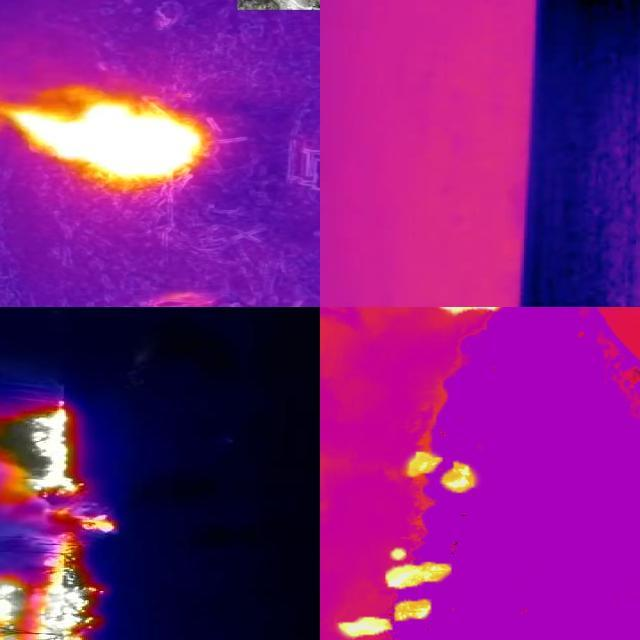fire: (1, 90, 209, 184), (319, 546, 463, 640), (390, 309, 540, 392), (1, 403, 87, 500), (1, 504, 122, 558), (407, 437, 480, 506)
